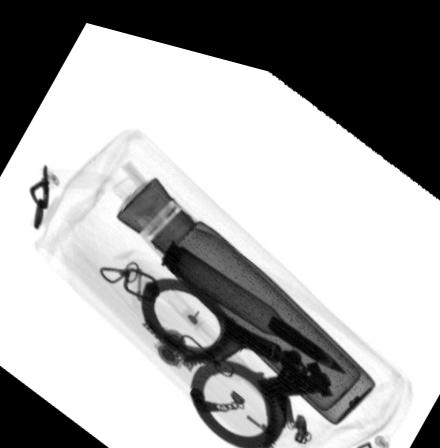Bullet: (159, 226, 348, 356)
HandCuffs: (139, 269, 331, 441)
